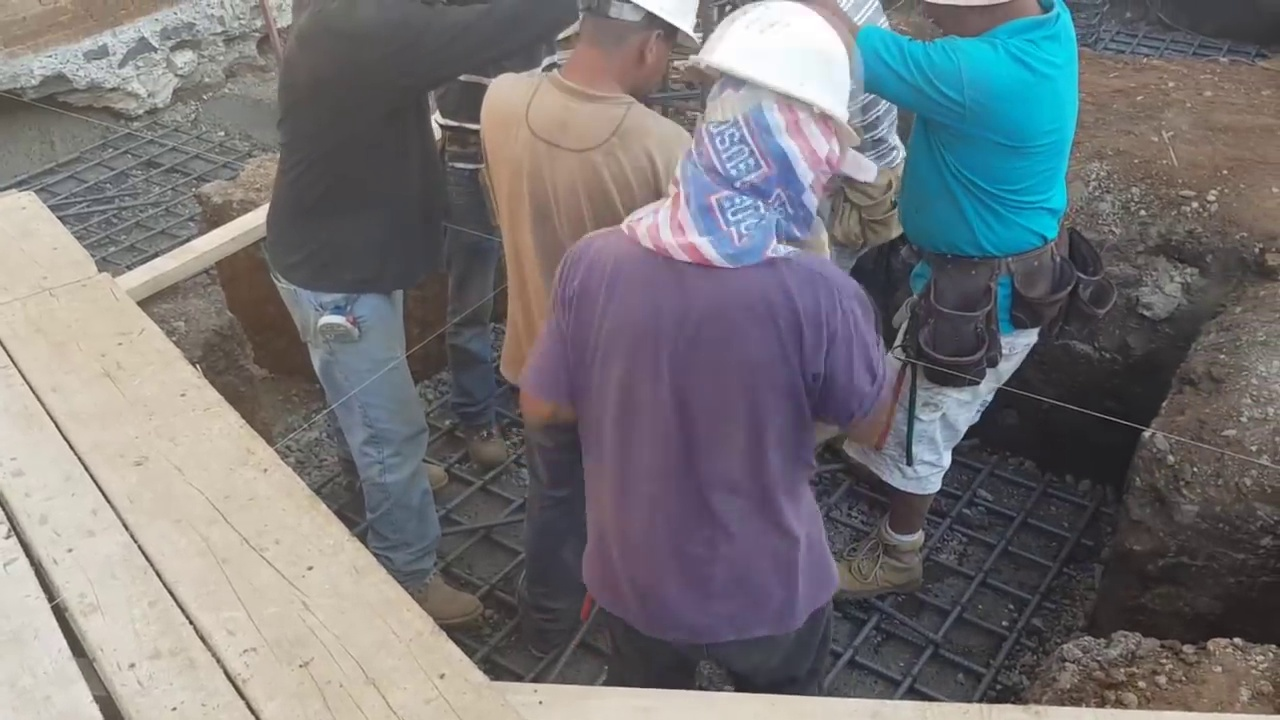helmet: (693, 7, 862, 148)
helmet-off: (556, 7, 699, 99)
helmet-on: (663, 6, 859, 245)
person: (522, 3, 876, 678), (260, 0, 509, 625), (847, 3, 1094, 602), (482, 2, 696, 407)
